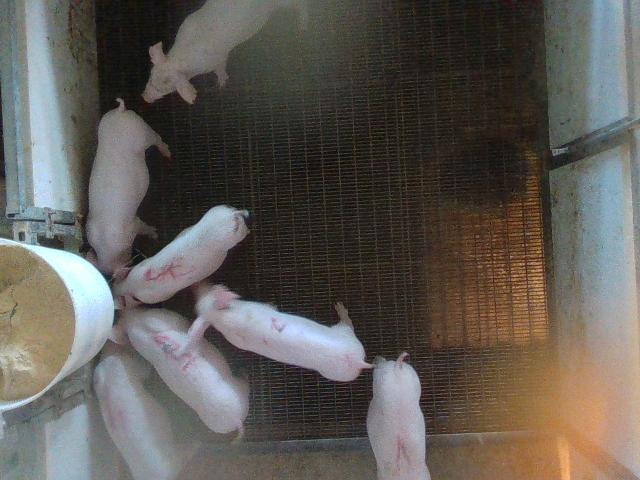pig-1: (366, 352, 430, 478)
pig-3: (110, 308, 249, 434)
pig-4: (94, 341, 186, 479)
pig-5: (114, 205, 250, 307)
